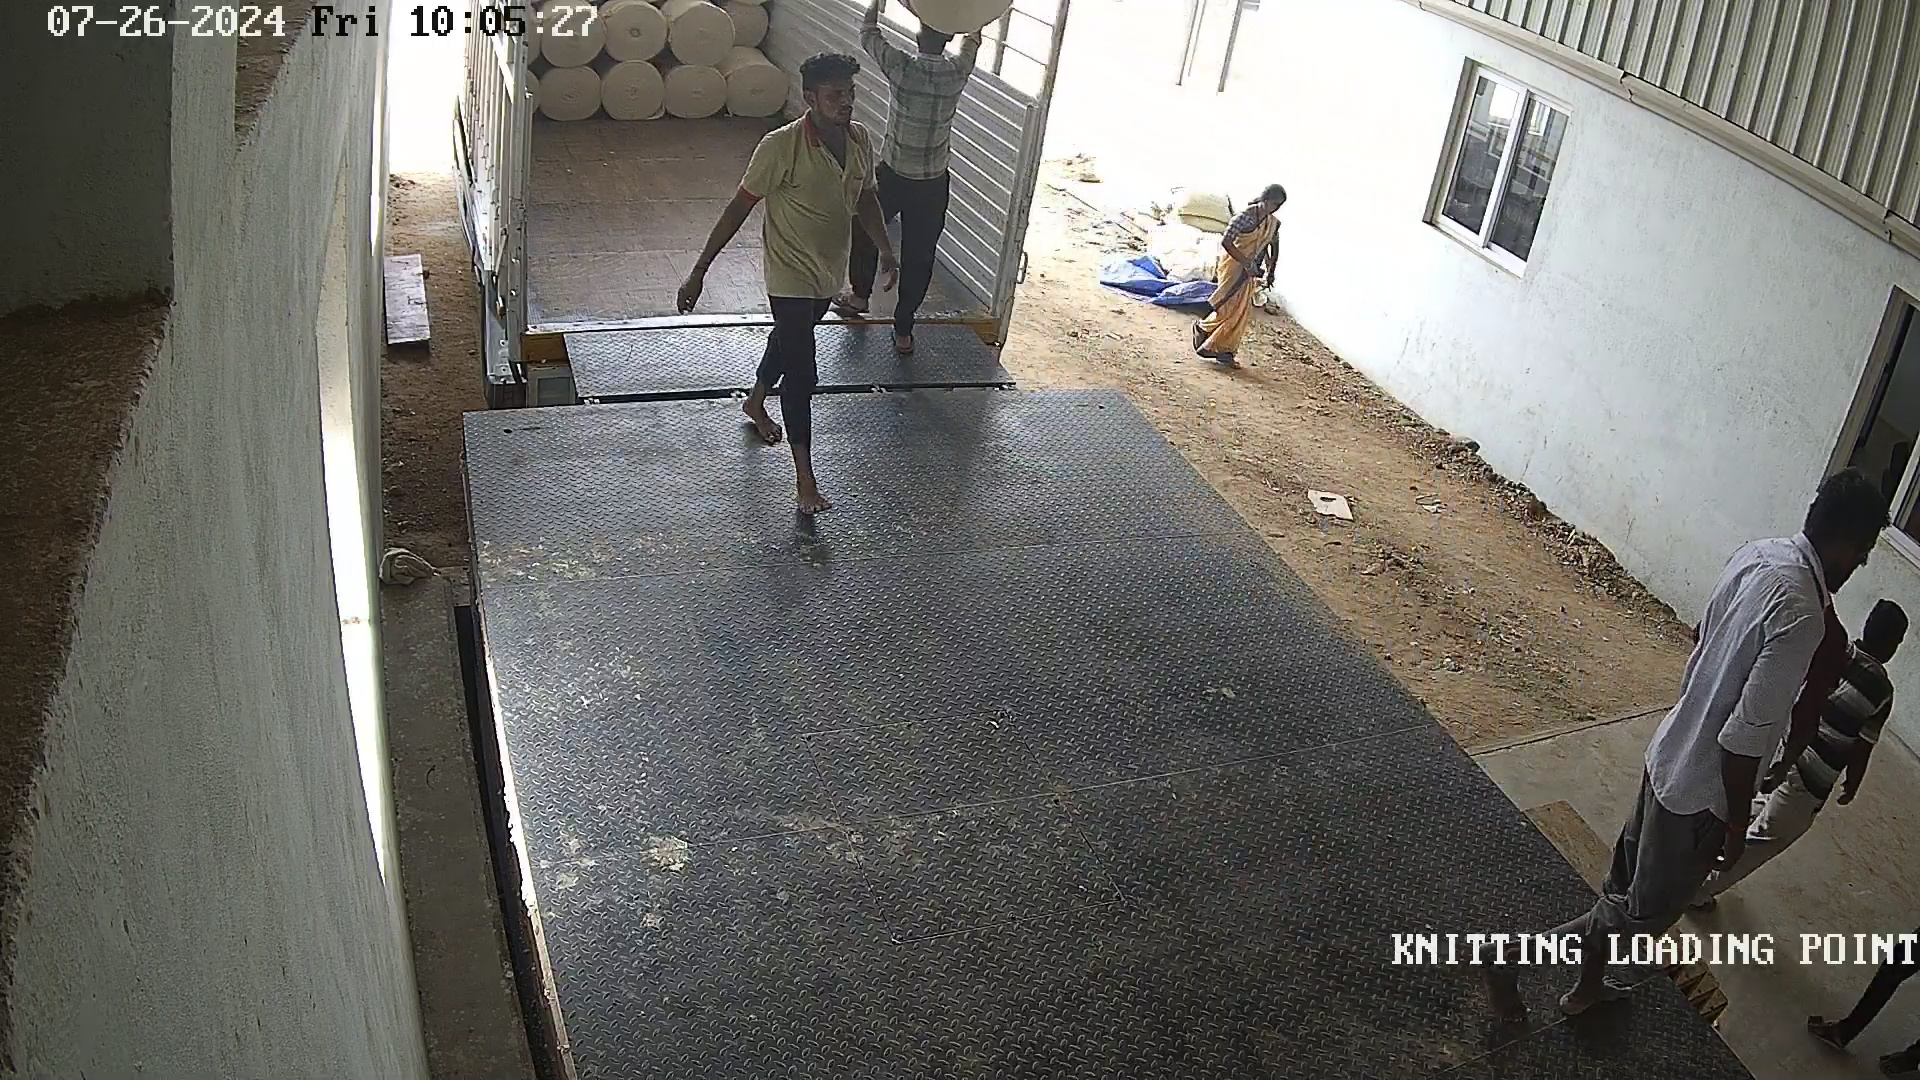bag: (880, 3, 1043, 40)
